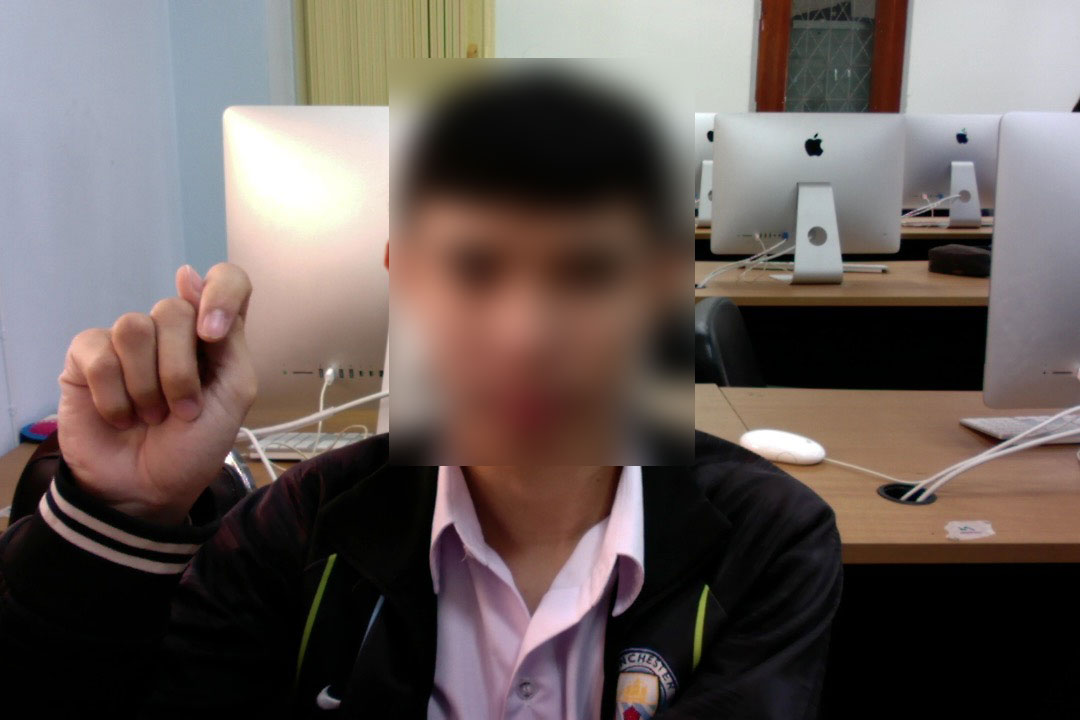tor: (45, 260, 267, 527)
